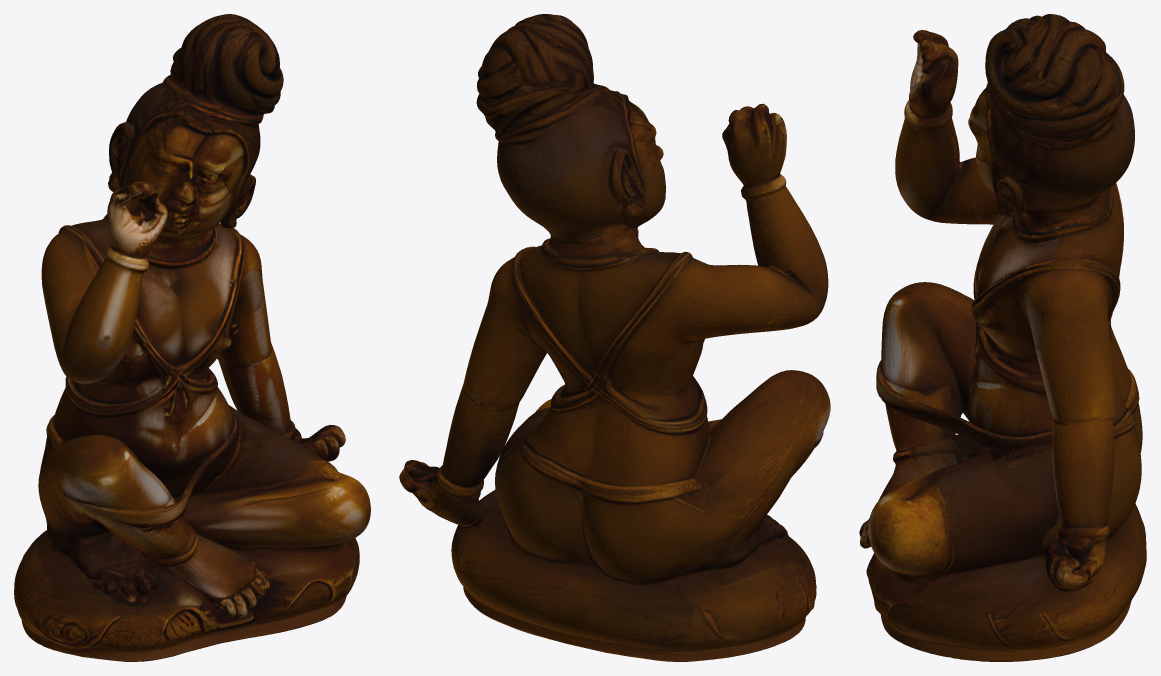
3 views of the same model, side by side, from view 1: azimuth 30°, elevation 25°; view 2: azimuth 150°, elevation 25°; view 3: azimuth 270°, elevation 25° (orthographic). The views are drawn at different scales.
Parts seen in each view (by area): view 1: textured_mesh; view 2: textured_mesh; view 3: textured_mesh.
Part boxes in pixels (box(x1,y1,x2,y2)): textured_mesh: box(14, 14, 370, 661); textured_mesh: box(399, 14, 830, 661); textured_mesh: box(859, 14, 1146, 661).
Bounding box in the file's own units: 1.34 × 1.99 × 0.8647.
Materials: 1 (1 with a texture image).
